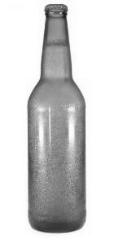glass: (25, 1, 87, 234)
